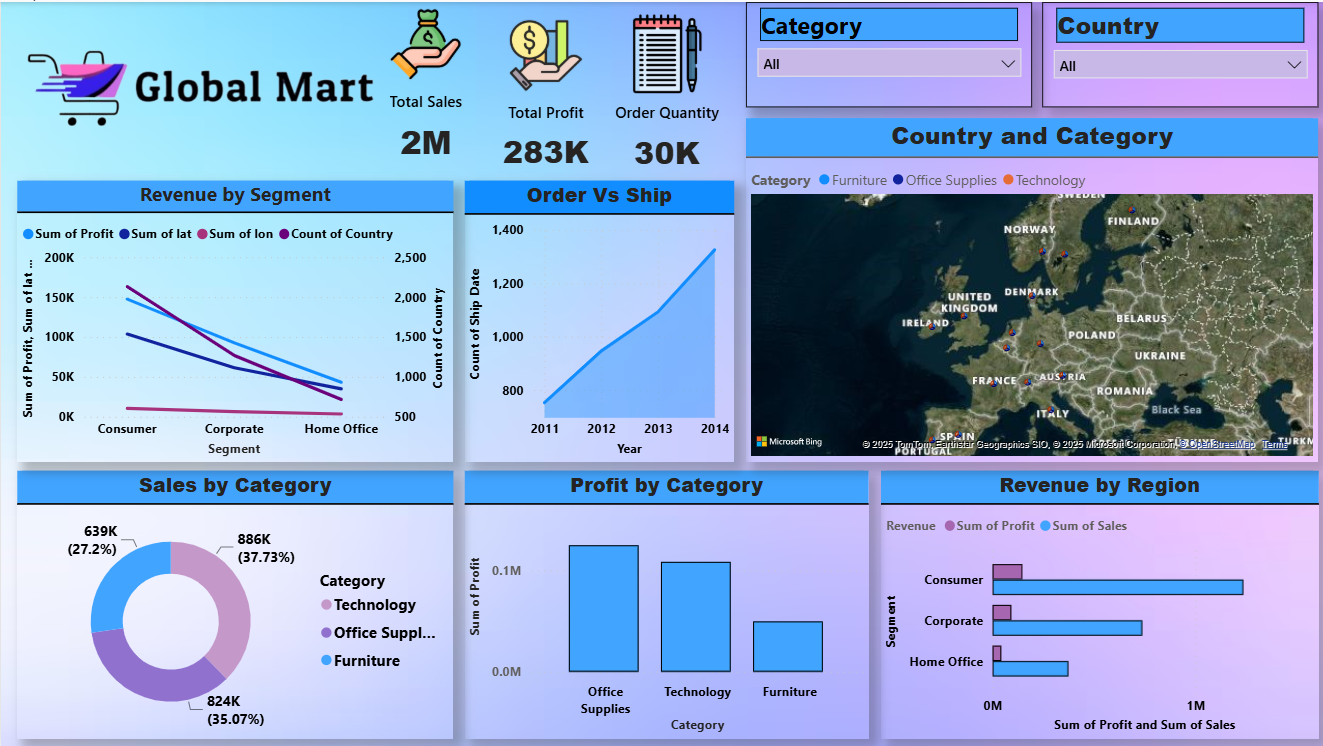

The page's visual inventory and layout, read from the dashboard file:
{"tool":"powerbi","page":{"name":"Page 1","canvas":[1280,720],"ordinal":0},"visuals":[{"type":"donutChart","title":" Sales by Category","fields":{"Category":["OrderBreakdown.Category"],"Y":["Sum(OrderBreakdown.Sales)"]},"box":[15.7,452.3,420.9,258.1],"z":0},{"type":"columnChart","title":"Profit by Category","fields":{"Category":["OrderBreakdown.Category"],"Y":["Sum(OrderBreakdown.Profit)"]},"box":[447.4,452.3,389.5,258.1],"z":1000},{"type":"lineChart","title":"Revenue by Segment","fields":{"Y":["Sum(OrderBreakdown.Profit)","Sum(ListOfOrders.lat)","Sum(ListOfOrders.lon)"],"Category":["ListOfOrders.Segment"],"Y2":["CountNonNull(ListOfOrders.Country)"]},"box":[15.6,172.2,421.1,271.1],"z":2000},{"type":"clusteredBarChart","title":"Revenue by Region","fields":{"Y":["Sum(OrderBreakdown.Profit)","Sum(OrderBreakdown.Sales)"],"Category":["ListOfOrders.Region","ListOfOrders.Segment"]},"box":[849,452.3,422.1,258.1],"z":3000},{"type":"slicer","fields":{"Values":["ListOfOrders.Country"]},"box":[1004.6,0,266.5,101.3],"z":4000},{"type":"slicer","fields":{"Values":["OrderBreakdown.Category"]},"box":[718.8,0,276.2,101.3],"z":5000},{"type":"cardVisual","fields":{"Data":["Sum(OrderBreakdown.Profit)"]},"box":[420.7,11.2,210.3,154.1],"z":6000},{"type":"cardVisual","fields":{"Data":["Sum(OrderBreakdown.Sales)"]},"box":[332.4,4.8,176.6,167],"z":7000},{"type":"map","fields":{"Category":["ListOfOrders.Country"],"Series":["OrderBreakdown.Category"]},"box":[718.8,112.2,552.4,331.7],"z":8000},{"type":"image","box":[15.7,0,361.8,156.8],"z":9000},{"type":"cardVisual","fields":{"Data":["Sum(OrderBreakdown.Quantity)"]},"box":[565.2,0,154.1,167],"z":10000},{"type":"stackedAreaChart","title":"Order Vs Ship","fields":{"Category":["ListOfOrders.Order Date.Variation.Date Hierarchy.Year","ListOfOrders.Order Date.Variation.Date Hierarchy.Quarter","ListOfOrders.Order Date.Variation.Date Hierarchy.Month","ListOfOrders.Order Date.Variation.Date Hierarchy.Day"],"Y":["CountNonNull(ListOfOrders.Ship Date)"]},"box":[447.8,172.2,260,271.1],"z":11000}]}

Visuals, with their boxes in screenshot pixels (x1, y1, x2, y2), scaled from the page's 1280x720 canvas onto the 1323x746 screenshot:
" Sales by Category" donutChart: l=16, t=469, r=451, b=736
"Profit by Category" columnChart: l=462, t=469, r=865, b=736
"Revenue by Segment" lineChart: l=16, t=178, r=451, b=459
"Revenue by Region" clusteredBarChart: l=878, t=469, r=1314, b=736
slicer - ListOfOrders.Country: l=1038, t=0, r=1314, b=105
slicer - OrderBreakdown.Category: l=743, t=0, r=1028, b=105
cardVisual - Sum(OrderBreakdown.Profit): l=435, t=12, r=652, b=171
cardVisual - Sum(OrderBreakdown.Sales): l=344, t=5, r=526, b=178
map - ListOfOrders.Country x OrderBreakdown.Category: l=743, t=116, r=1314, b=460
image: l=16, t=0, r=390, b=162
cardVisual - Sum(OrderBreakdown.Quantity): l=584, t=0, r=743, b=173
"Order Vs Ship" stackedAreaChart: l=463, t=178, r=732, b=459
